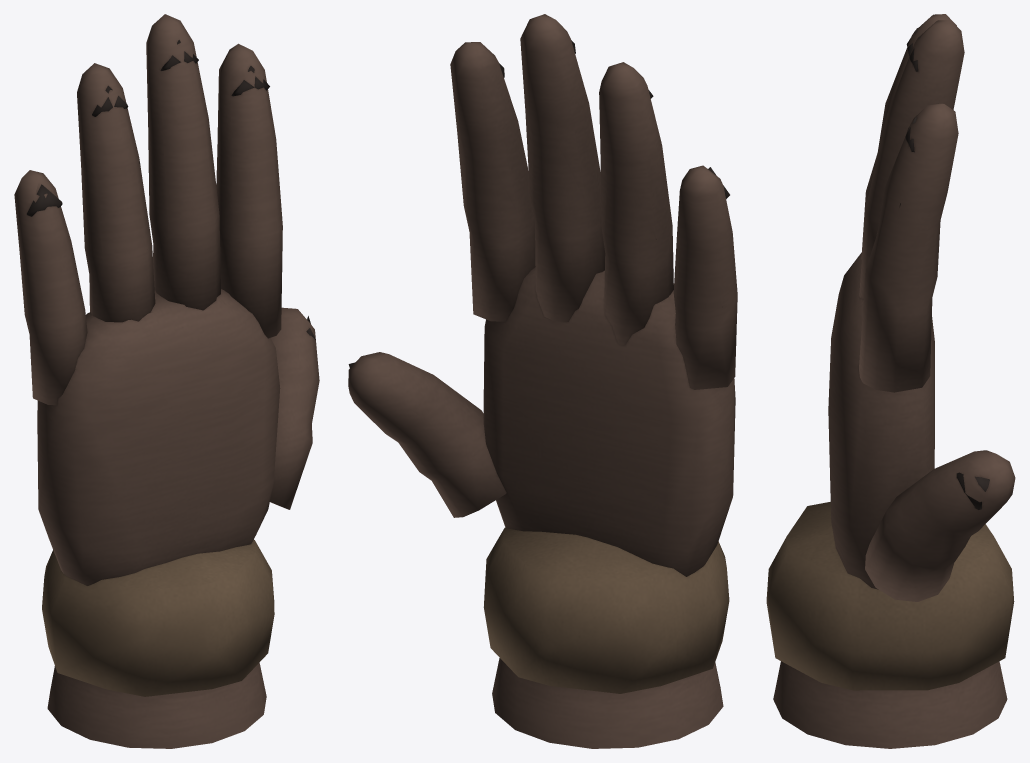
Rendered from cpart_hand_primate.glb.
3 views of the same model, side by side, from view 1: azimuth 30°, elevation 25°; view 2: azimuth 150°, elevation 25°; view 3: azimuth 270°, elevation 25° (orthographic). The views are drawn at different scales.
Visible parts, largest first — view 1: HandPrimate, Cuff, Nails; view 2: HandPrimate, Cuff; view 3: HandPrimate, Cuff, Nails.
Part boxes in pixels (x1=…): HandPrimate: x1=14, y1=14, x2=319, y2=748; Cuff: x1=42, y1=539, x2=274, y2=696; Nails: x1=27, y1=40, x2=315, y2=339; HandPrimate: x1=348, y1=14, x2=737, y2=748; Cuff: x1=483, y1=527, x2=729, y2=693; HandPrimate: x1=773, y1=14, x2=1015, y2=748; Cuff: x1=766, y1=502, x2=1014, y2=690; Nails: x1=905, y1=28, x2=989, y2=509.
Bounding box in the file's own units: 0.0878 × 0.171 × 0.0553.
3 materials, 3 textured.
